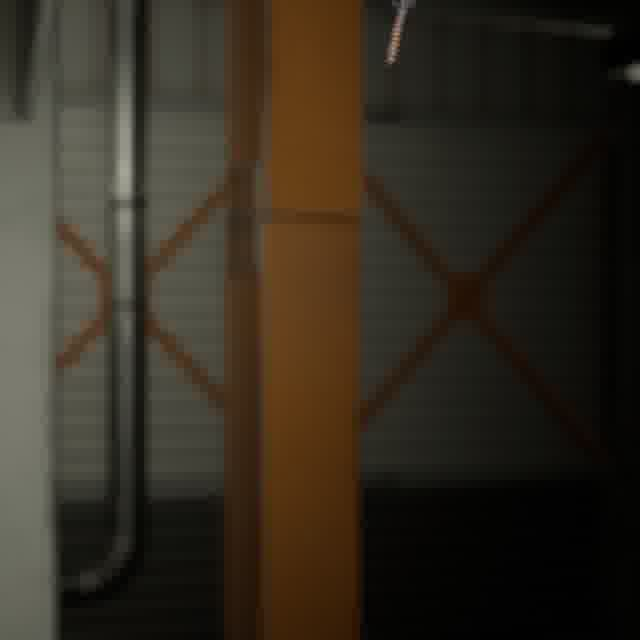bolt: (380, 0, 420, 71)
